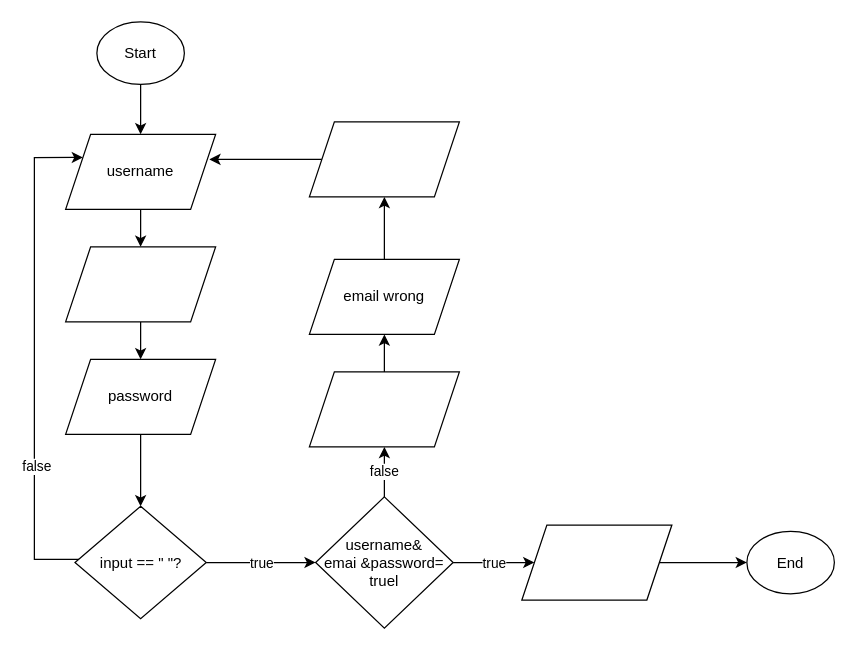
Image size: 856x650. Some labels were removed from this diagram. The shapes that lost their labels are listed below. From the top down, each one's box as (x1, y1, x2, y2) in pixels, then its label:
(308, 121, 459, 197): username wrong
(64, 246, 216, 322): email
(308, 371, 459, 447): password wrong!
(521, 524, 672, 600): login sucees , in to page home
